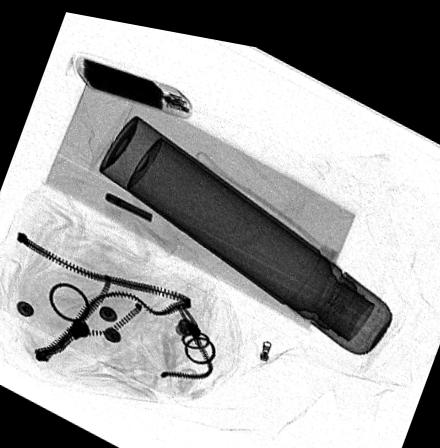Powerbank: (74, 51, 191, 111)
